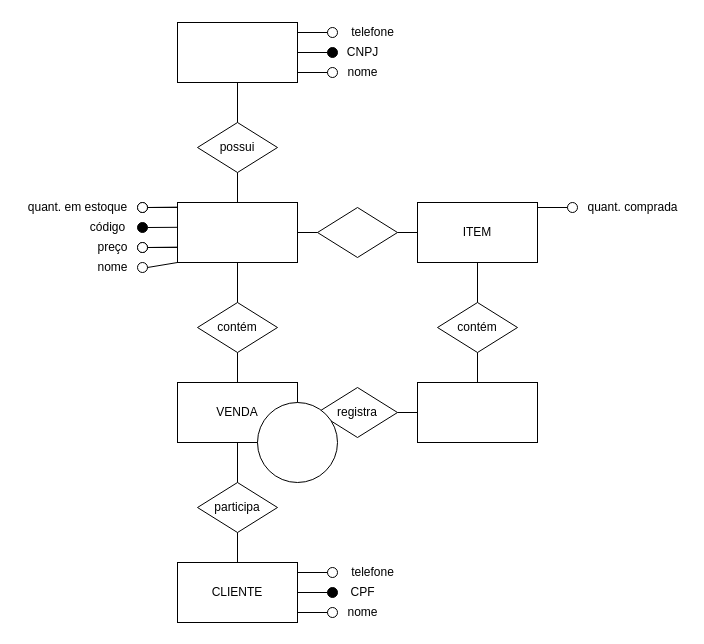
Image size: 704x644. Some labels were removed from this diagram. Each missing label, with the centre of its shape:
"FORNECEDOR" goes at (x=237, y=52).
"NOTA FISCAL" goes at (x=477, y=412).
"PRODUTO" goes at (x=237, y=232).
"registrado em" goes at (x=357, y=232).
